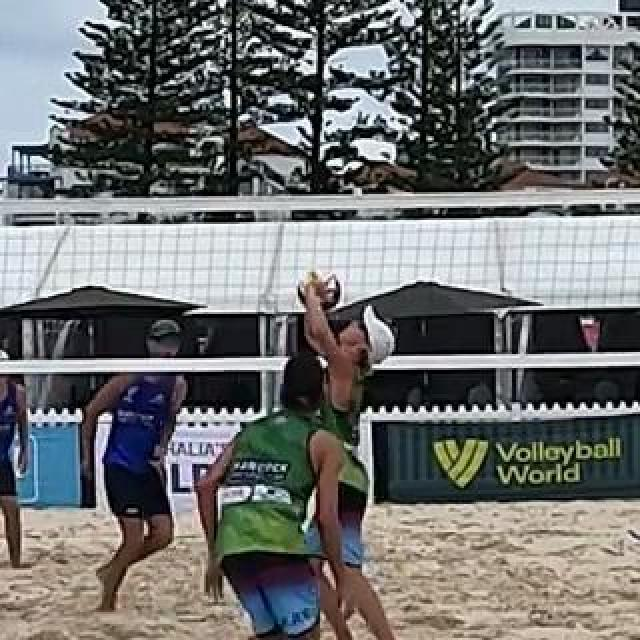volleyball: (295, 267, 343, 313)
